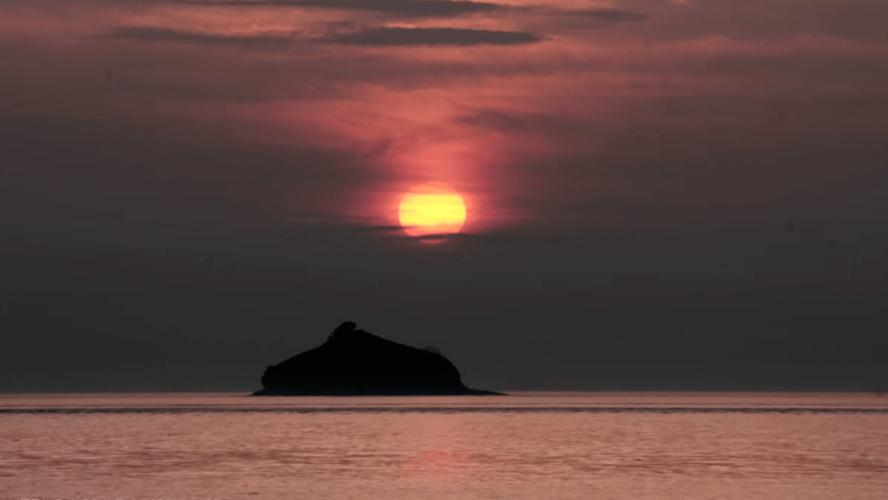mountain: (266, 305, 504, 413)
sea_river: (16, 372, 887, 499)
sky_cloud: (15, 61, 861, 300)
